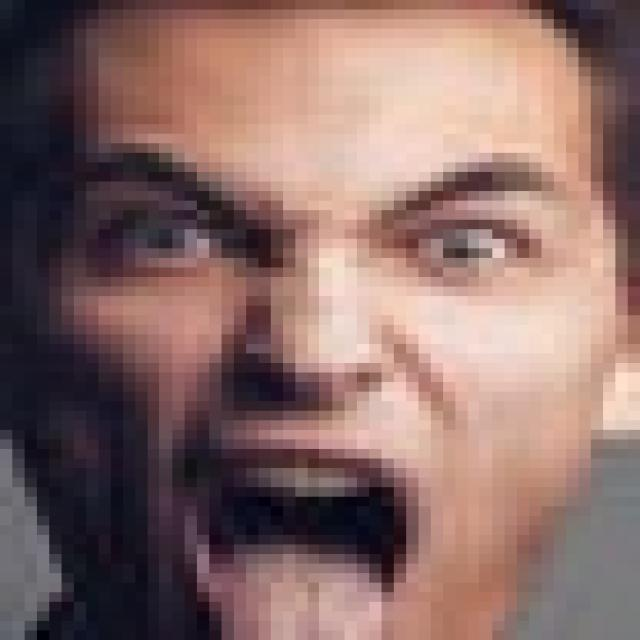Anxiety: (12, 12, 623, 630)
